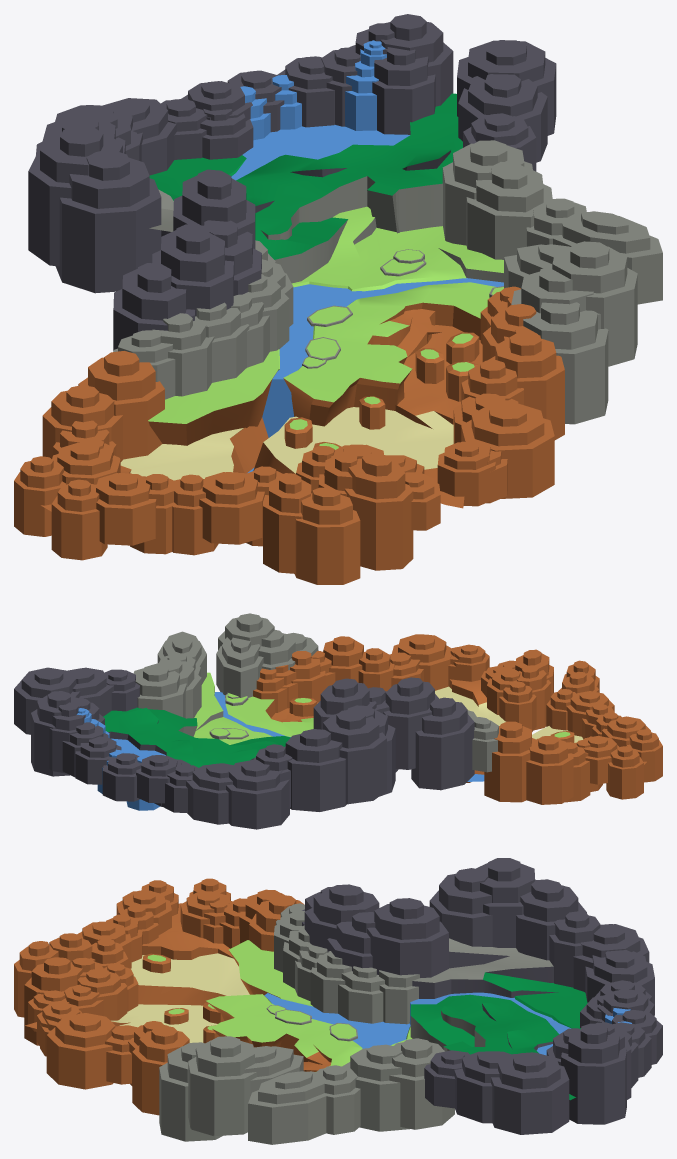
Rendered from Open World Plan 2.0.fbx.
The picture shows the model from 3 angles, top to bottom: view 1: azimuth 30°, elevation 25°; view 2: azimuth 150°, elevation 25°; view 3: azimuth 270°, elevation 25°; orthographic projection. The views are drawn at different scales.
Parts seen in each view (by area): view 1: Cliffs, Ground Whitebox, Rivers.001; view 2: Cliffs, Ground Whitebox, Rivers.001; view 3: Cliffs, Ground Whitebox, Rivers.001.
Boxes of the visible parts, box(x1,y1,x2,y2) form: Cliffs: box(14, 14, 662, 584); Ground Whitebox: box(41, 93, 503, 511); Rivers.001: box(231, 125, 503, 472); Cliffs: box(14, 613, 662, 829); Ground Whitebox: box(103, 672, 646, 782); Rivers.001: box(111, 692, 484, 781); Cliffs: box(14, 858, 662, 1144); Ground Whitebox: box(25, 903, 587, 1100); Rivers.001: box(264, 992, 571, 1055).
Bounding box in the file's own units: 8624 × 2606 × 8856.
